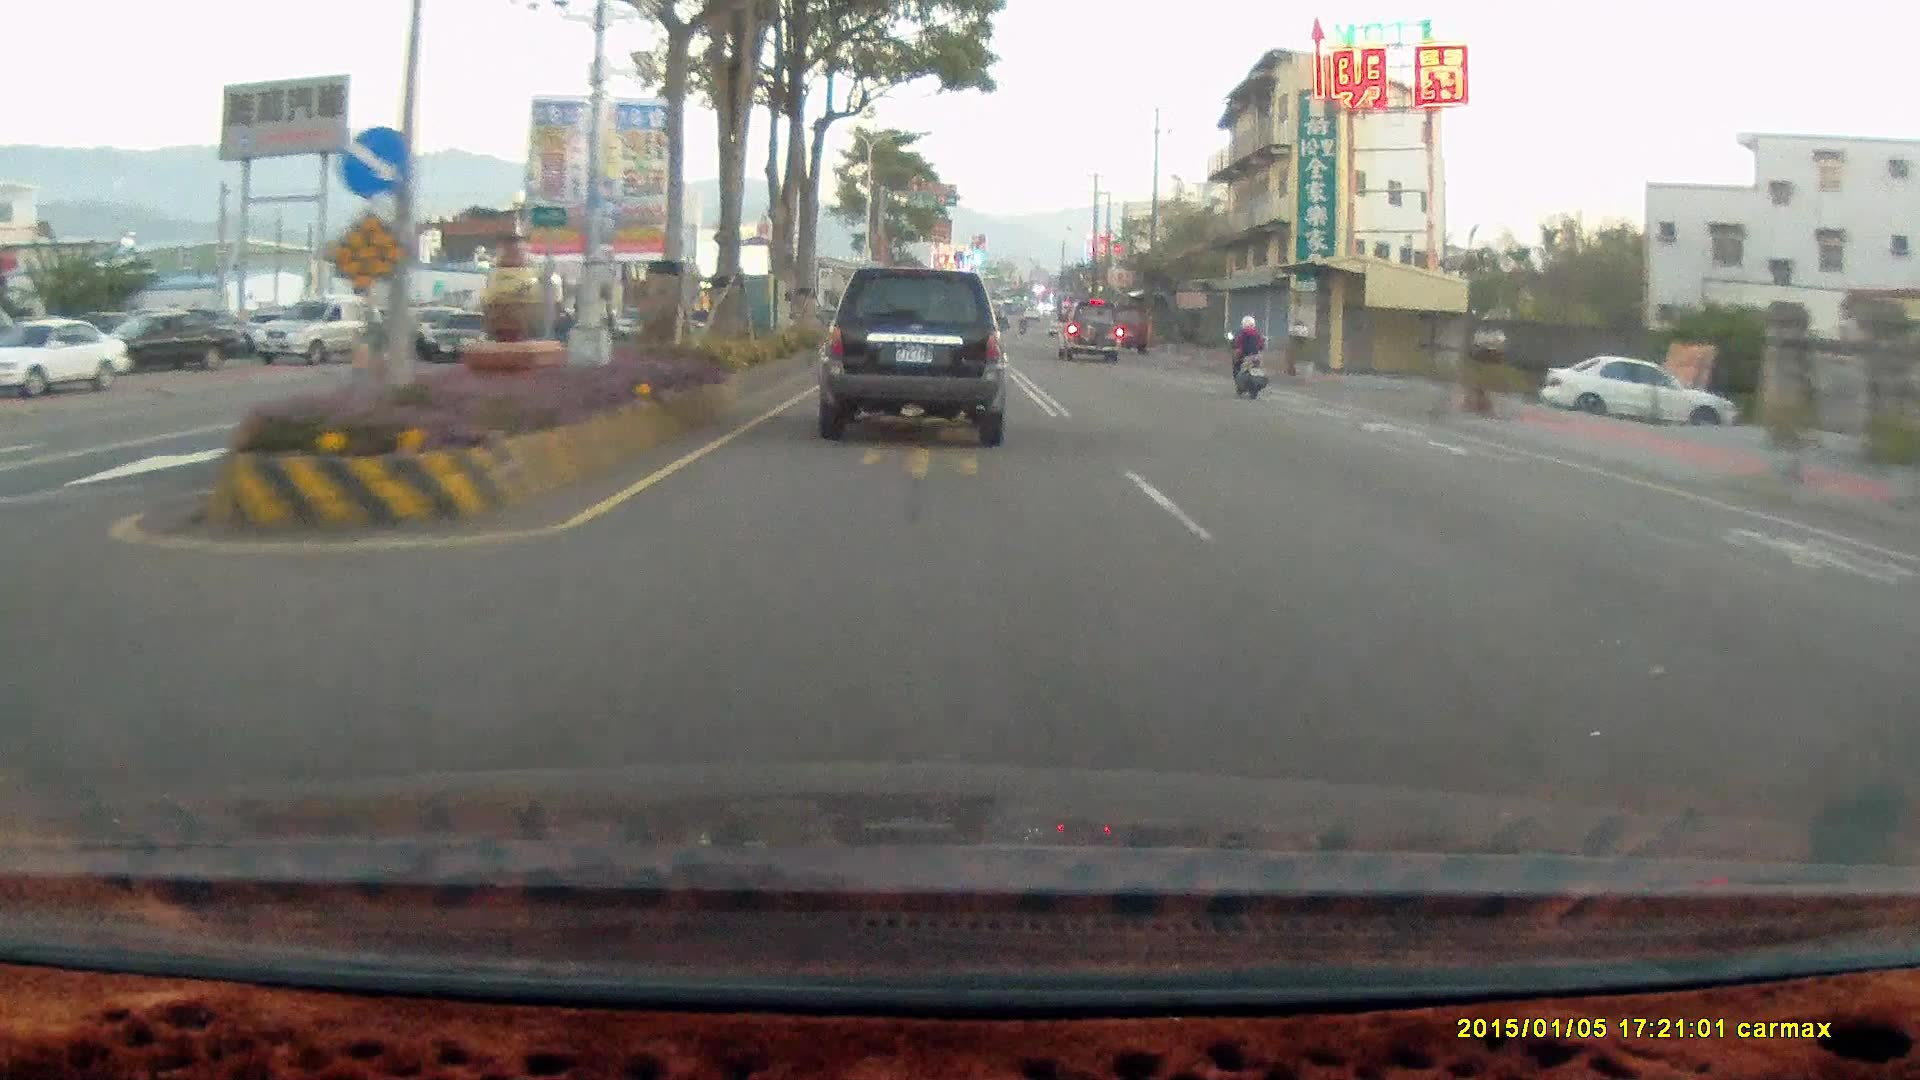rider: (1219, 307, 1279, 408), (1223, 311, 1266, 397), (344, 313, 390, 393)
vehicle: (816, 264, 1010, 445), (824, 264, 1012, 443), (1546, 356, 1741, 430), (1545, 355, 1739, 429), (88, 305, 260, 377), (83, 308, 247, 375), (0, 318, 133, 398), (3, 318, 135, 398), (257, 295, 384, 363), (423, 311, 523, 368), (422, 311, 517, 365), (1061, 294, 1124, 359), (1056, 297, 1118, 361), (1103, 299, 1150, 351)
